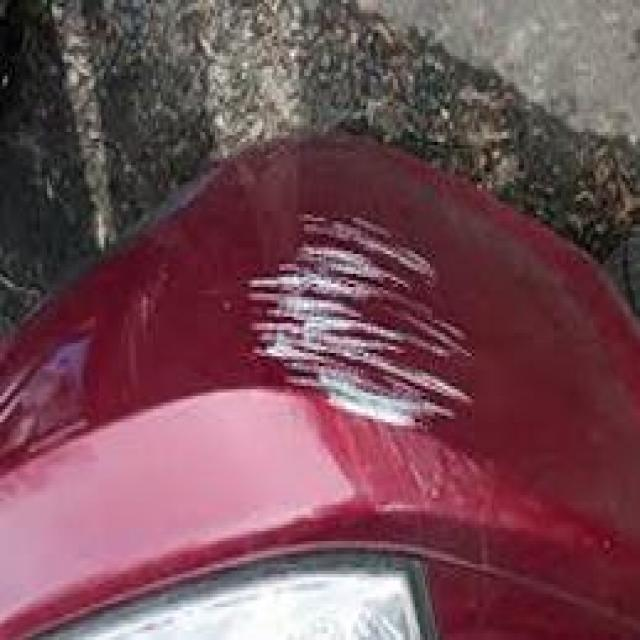scratch: (231, 202, 488, 446)
